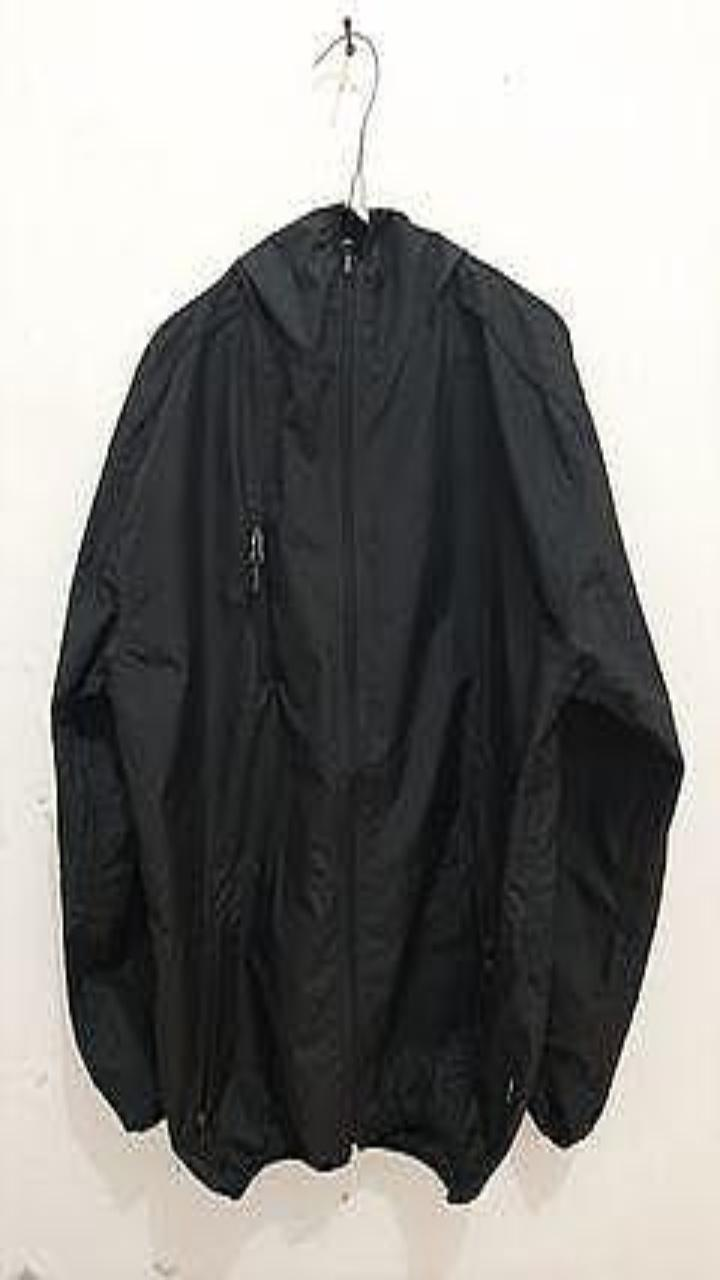Sports_Jacket: (51, 202, 683, 1202)
